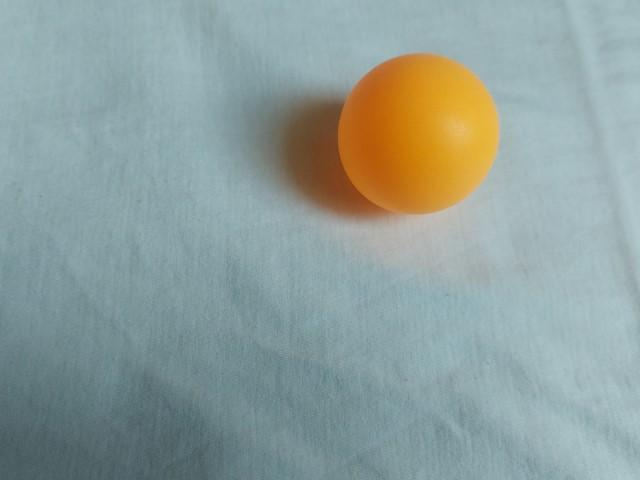oball: (325, 46, 511, 225)
